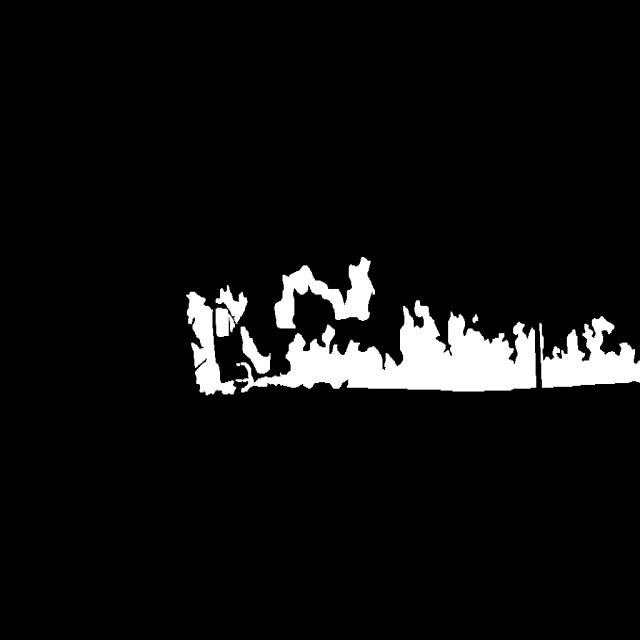fire: (142, 227, 640, 500)
